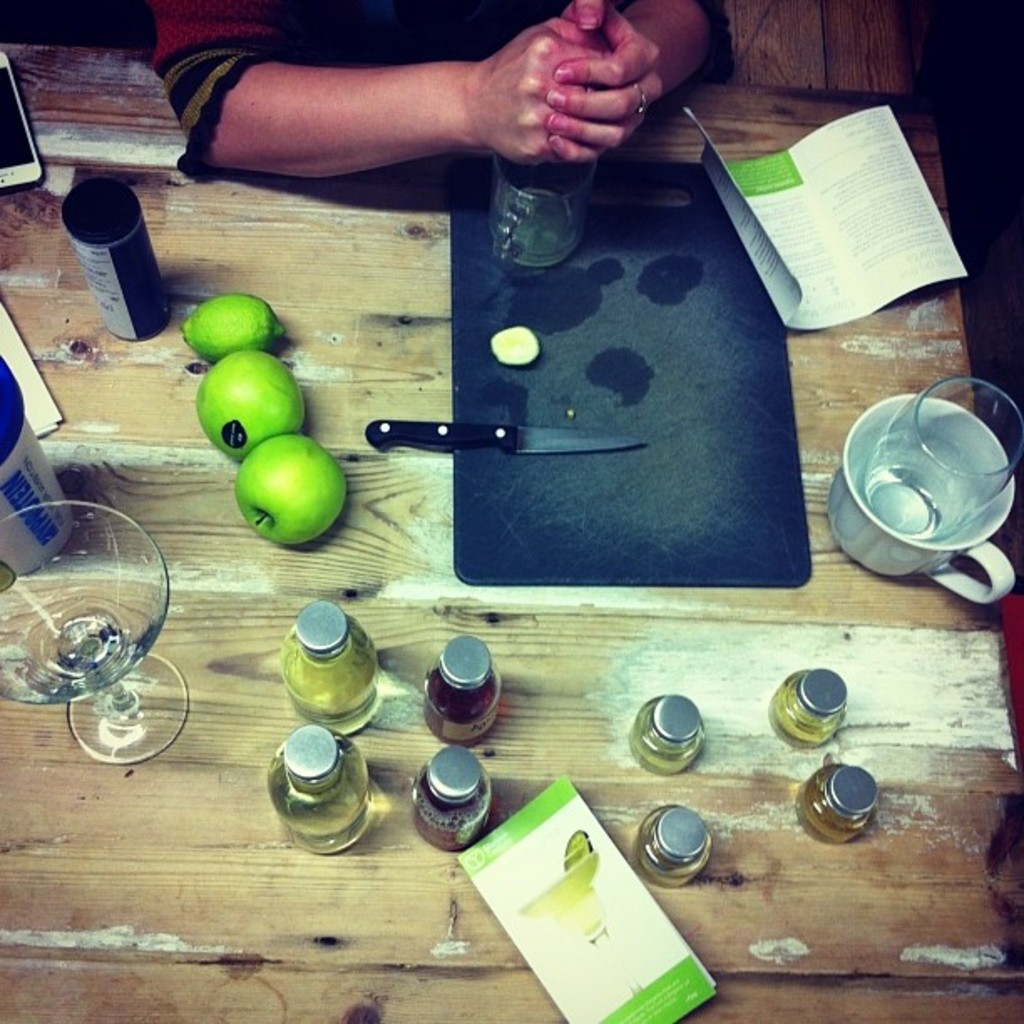Apple: (187, 344, 302, 458), (222, 441, 337, 543)
